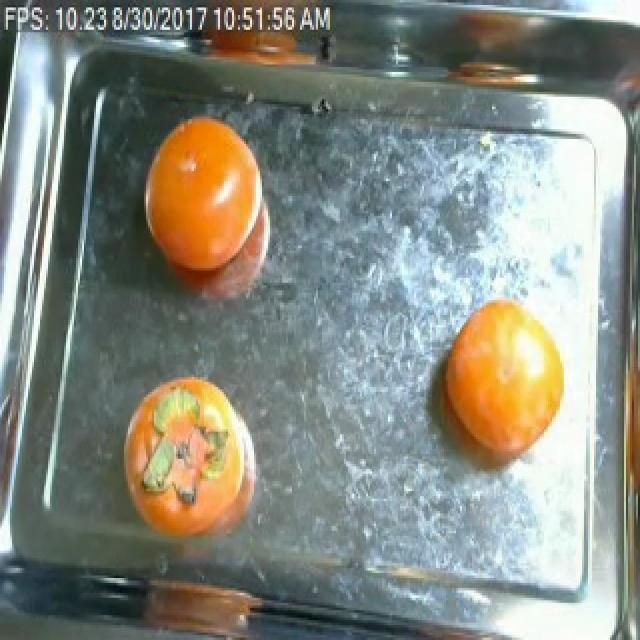Fruit: (130, 99, 276, 303), (428, 283, 578, 479), (442, 45, 540, 104)
